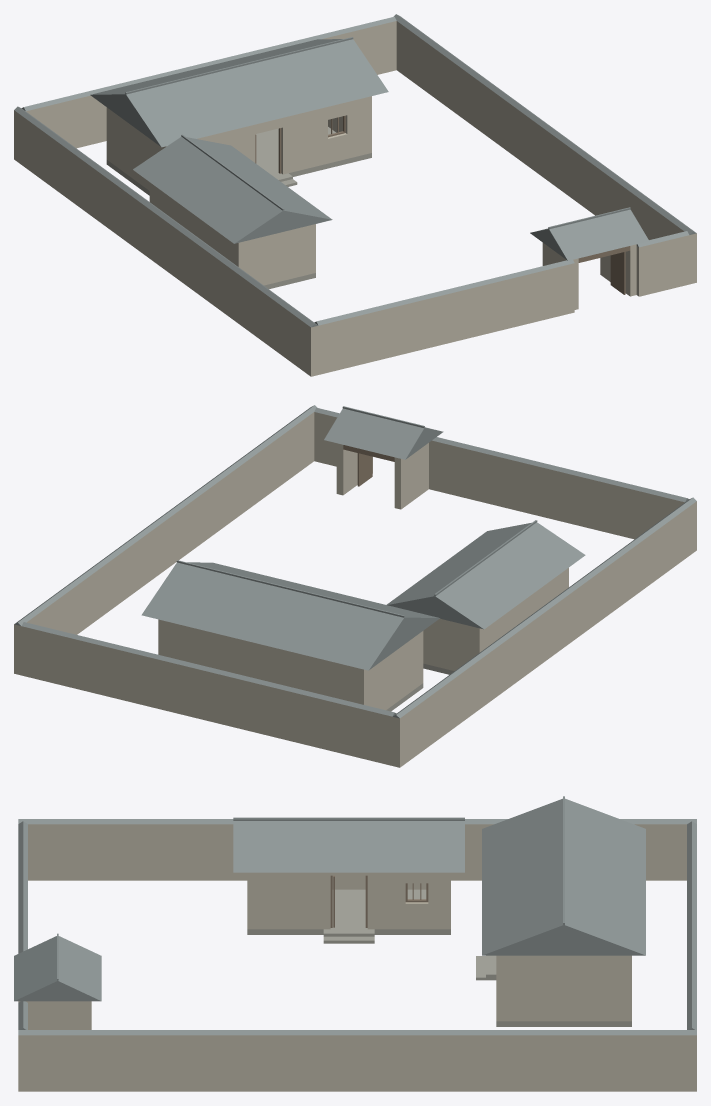
File: NEG-C02-018-wrong-asset.local-roundtrip.glb
The picture shows the model from 3 angles, top to bottom: view 1: azimuth 30°, elevation 25°; view 2: azimuth 150°, elevation 25°; view 3: azimuth 270°, elevation 25°; orthographic projection. The views are drawn at different scales.
Visible parts, largest first — view 1: architecture_C_whitebox_earth_wall, architecture_C_roof_rhythm_not_glaze_copy, architecture_C_floor_plinth, architecture_C_plain_timber; view 2: architecture_C_whitebox_earth_wall, architecture_C_roof_rhythm_not_glaze_copy, architecture_C_plain_timber; view 3: architecture_C_whitebox_earth_wall, architecture_C_roof_rhythm_not_glaze_copy, architecture_C_floor_plinth, architecture_C_plain_timber.
Part boxes in pixels (box(x1,y1,x2,y2)): architecture_C_whitebox_earth_wall: box(14, 21, 696, 376); architecture_C_roof_rhythm_not_glaze_copy: box(14, 14, 696, 327); architecture_C_floor_plinth: box(106, 127, 371, 289); architecture_C_plain_timber: box(255, 115, 630, 294); architecture_C_whitebox_earth_wall: box(14, 412, 696, 767); architecture_C_roof_rhythm_not_glaze_copy: box(14, 405, 696, 718); architecture_C_plain_timber: box(343, 445, 394, 486); architecture_C_whitebox_earth_wall: box(18, 824, 696, 1091); architecture_C_roof_rhythm_not_glaze_copy: box(14, 796, 696, 1035); architecture_C_floor_plinth: box(247, 889, 631, 1026); architecture_C_plain_timber: box(330, 875, 428, 927).
Size of the model in its own units: 18 by 4.29 by 24.15.
